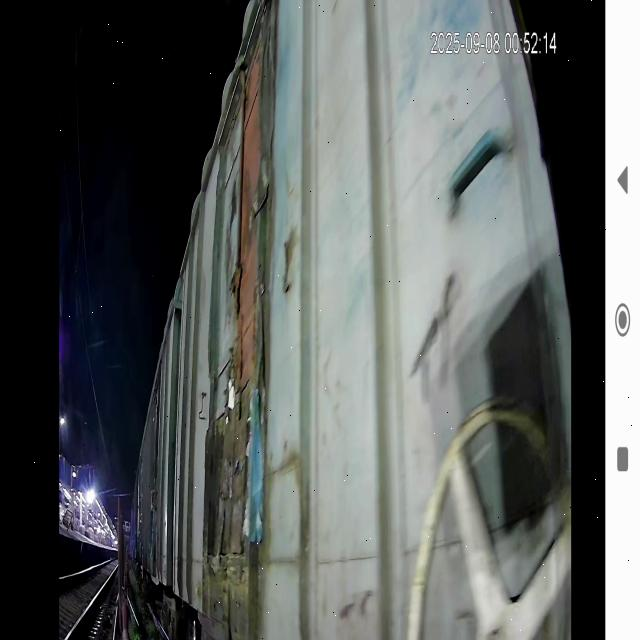coach: (183, 0, 579, 640)
